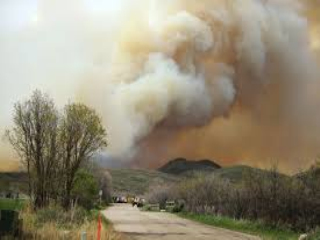smoke: (73, 11, 302, 166)
